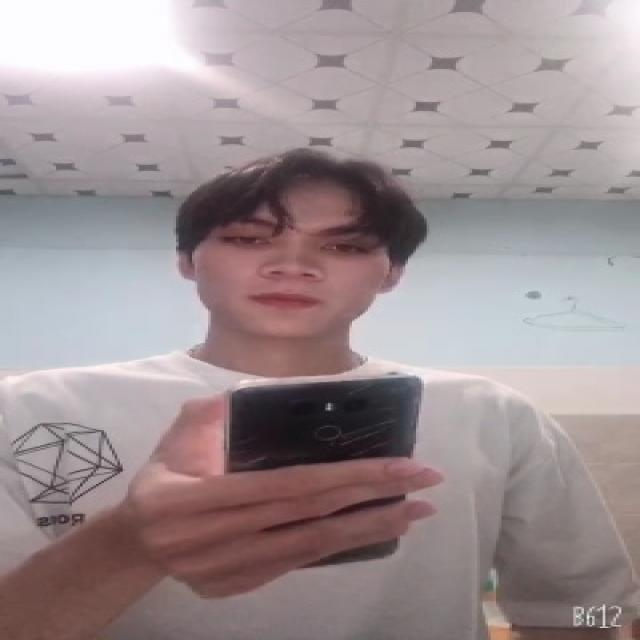Phone: (222, 373, 423, 568)
